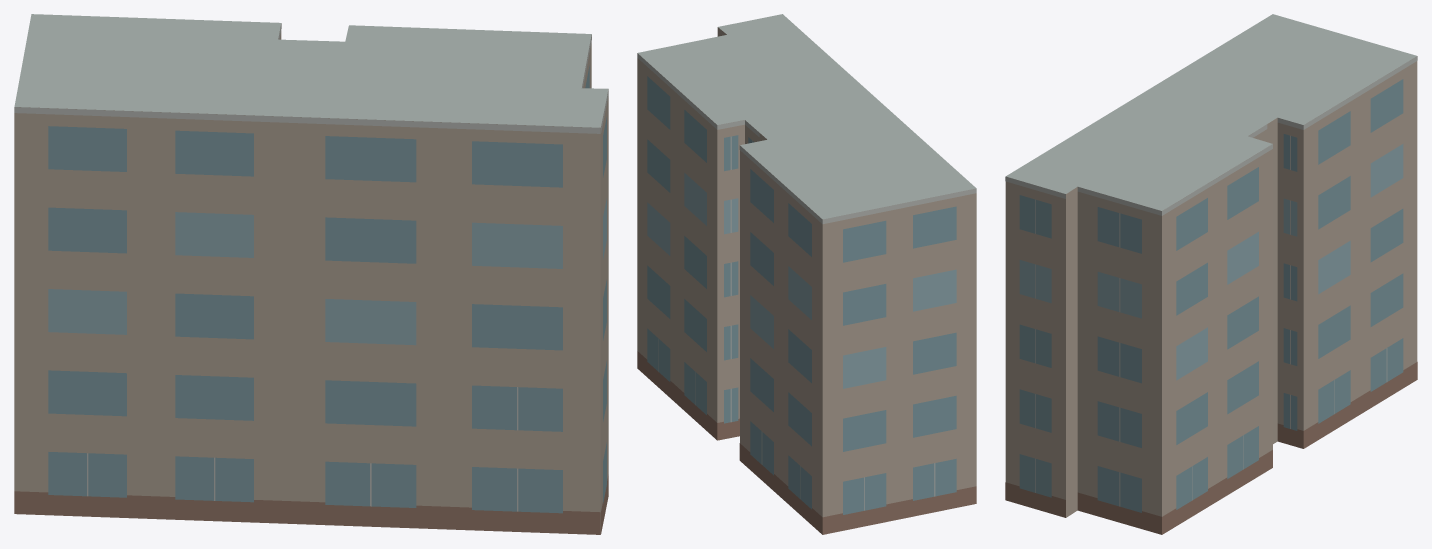
The model's file is survey-upis-32540892.glb.
3 views of the same model, side by side, from view 1: azimuth 30°, elevation 25°; view 2: azimuth 150°, elevation 25°; view 3: azimuth 270°, elevation 25° (orthographic). The views are drawn at different scales.
Parts seen in each view (by area): view 1: survey-upis-32540892.tmp; view 2: survey-upis-32540892.tmp; view 3: survey-upis-32540892.tmp.
Boxes of the visible parts, x1,y1,x2,y2 form: survey-upis-32540892.tmp: (14, 14, 608, 534); survey-upis-32540892.tmp: (637, 14, 976, 534); survey-upis-32540892.tmp: (1005, 14, 1417, 534).
Bounding box in the file's own units: 21.02 × 16.1 × 18.57.
